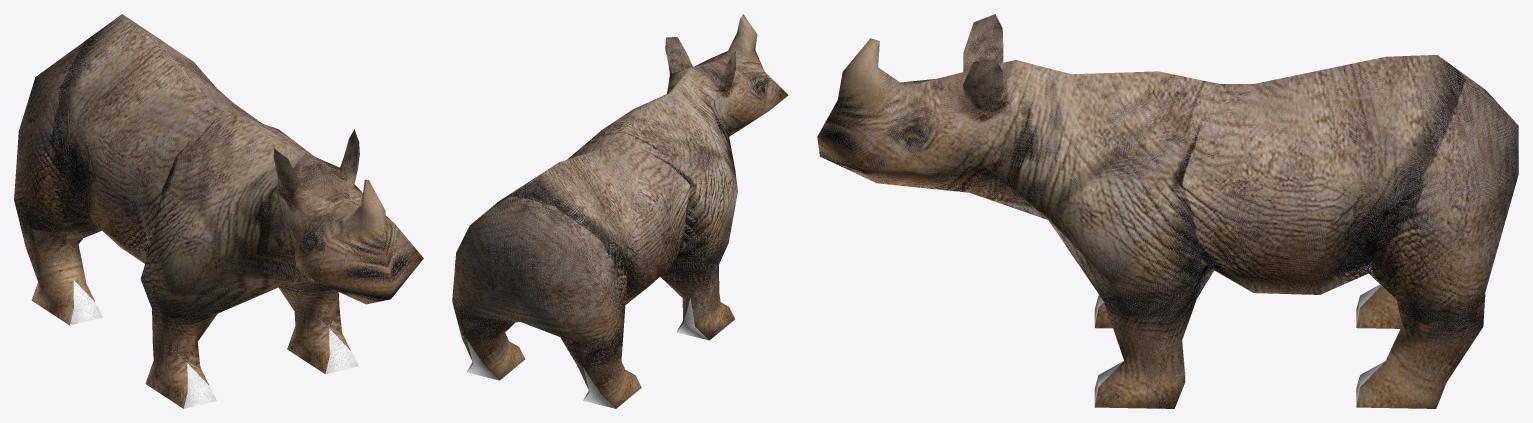
The model's file is rhino.dae.
The picture shows the model from 3 angles, left to right: view 1: azimuth 30°, elevation 25°; view 2: azimuth 150°, elevation 25°; view 3: azimuth 270°, elevation 25°; orthographic projection. The views are drawn at different scales.
Visible parts, largest first — view 1: instance_0; view 2: instance_0; view 3: instance_0.
Part boxes in pixels (bbox=[...]): instance_0: bbox=[14, 14, 423, 408]; instance_0: bbox=[452, 14, 788, 408]; instance_0: bbox=[817, 14, 1518, 408].
Bounding box in the file's own units: 27.9 × 76.03 × 38.51.
Materials: 3 (1 with a texture image).
